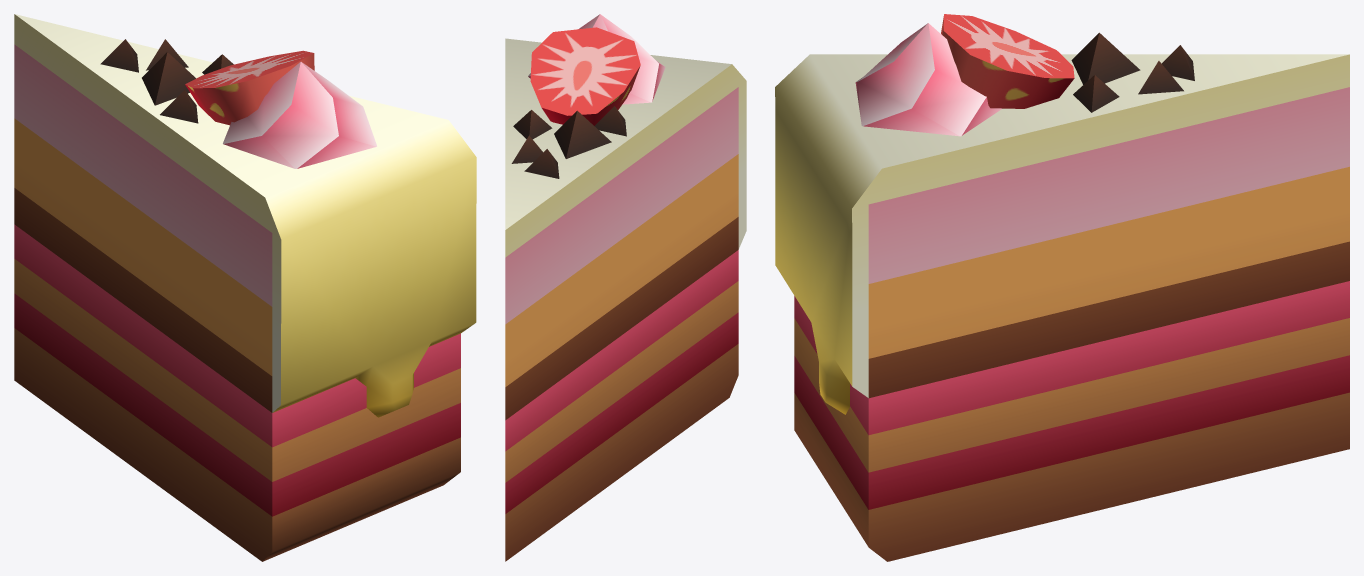
The model's file is m_Cake02_Slice02.fbx.
The picture shows the model from 3 angles, left to right: view 1: azimuth 30°, elevation 25°; view 2: azimuth 150°, elevation 25°; view 3: azimuth 270°, elevation 25°; orthographic projection. The views are drawn at different scales.
Visible parts, largest first — view 1: m_Cake02_Slice02; view 2: m_Cake02_Slice02; view 3: m_Cake02_Slice02.
Part boxes in pixels (x1,y1,x2,y2): m_Cake02_Slice02: (14, 14, 476, 561); m_Cake02_Slice02: (505, 14, 746, 561); m_Cake02_Slice02: (775, 14, 1349, 561).
Size of the model in its own units: 7.24 by 13.18 by 14.48.
